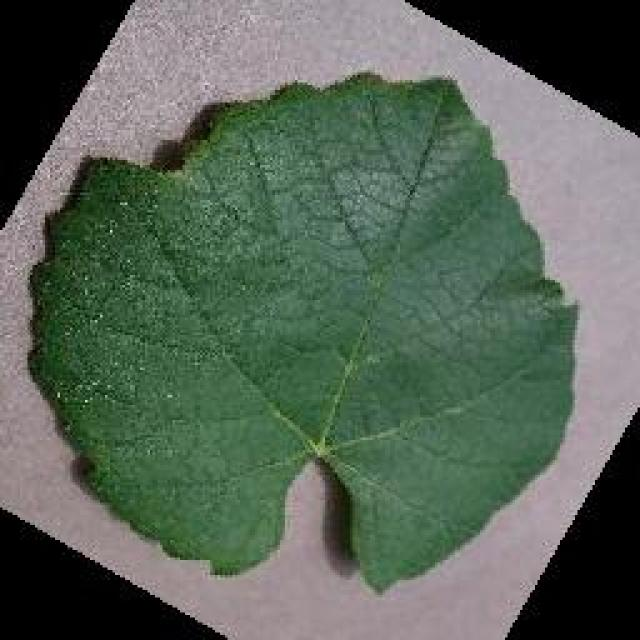Grape___healthy: (38, 75, 572, 585)
